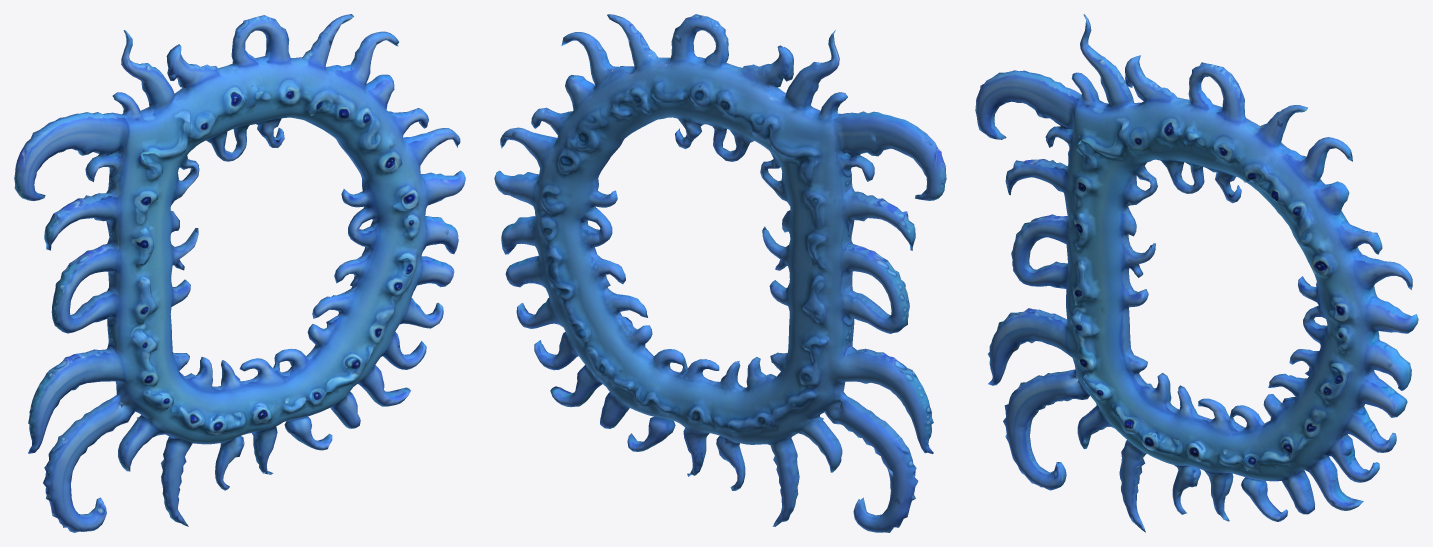
The model's file is galaktus_D.glb.
3 views of the same model, side by side, from view 1: azimuth 30°, elevation 25°; view 2: azimuth 150°, elevation 25°; view 3: azimuth 330°, elevation 25° (orthographic). The views are drawn at different scales.
Bounding box in the file's own units: 1.78 × 1.94 × 0.1871.
Materials: 1 (1 with a texture image).
